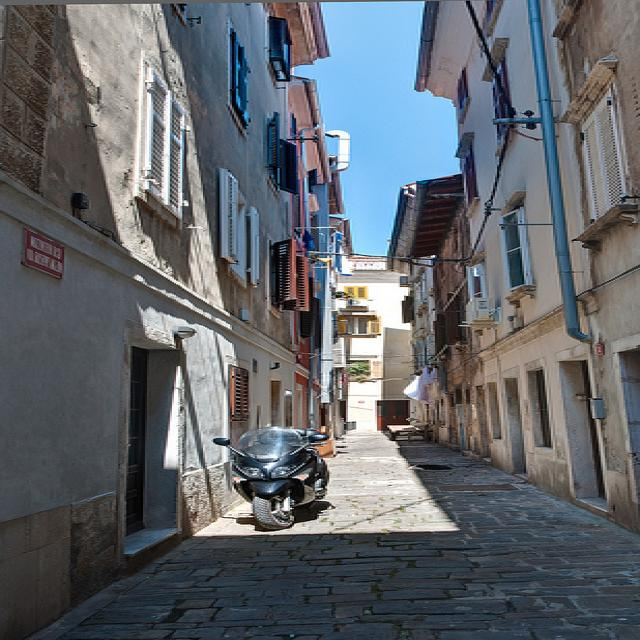motor: (214, 427, 330, 530)
